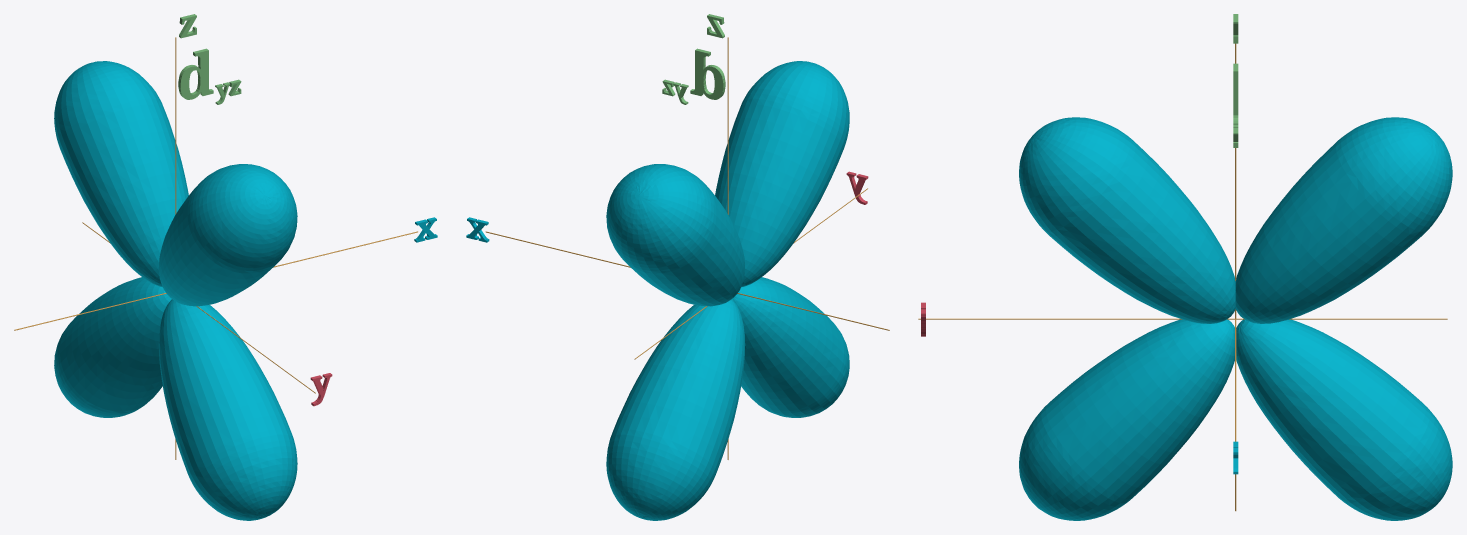
File: dyz-orbital-draco.glb
3 renders of one model, left to right at view 1: azimuth 30°, elevation 25°; view 2: azimuth 150°, elevation 25°; view 3: azimuth 270°, elevation 25°, orthographic. The views are drawn at different scales.
Parts seen in each view (by area): view 1: Mesh_Mesh_head_geo.001_lambert2SG.001; view 2: Mesh_Mesh_head_geo.001_lambert2SG.001; view 3: Mesh_Mesh_head_geo.001_lambert2SG.001.
Boxes of the visible parts, x1,y1,x2,y2 form: Mesh_Mesh_head_geo.001_lambert2SG.001: [14, 14, 437, 520]; Mesh_Mesh_head_geo.001_lambert2SG.001: [466, 14, 889, 520]; Mesh_Mesh_head_geo.001_lambert2SG.001: [918, 14, 1452, 520].
Bounding box in the file's own units: 105 × 105 × 101.
